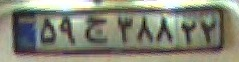character: (82, 15, 112, 47), (57, 15, 78, 46), (116, 13, 135, 46), (39, 15, 57, 49), (154, 15, 175, 44), (199, 13, 218, 45), (135, 12, 153, 44), (180, 17, 198, 46)
